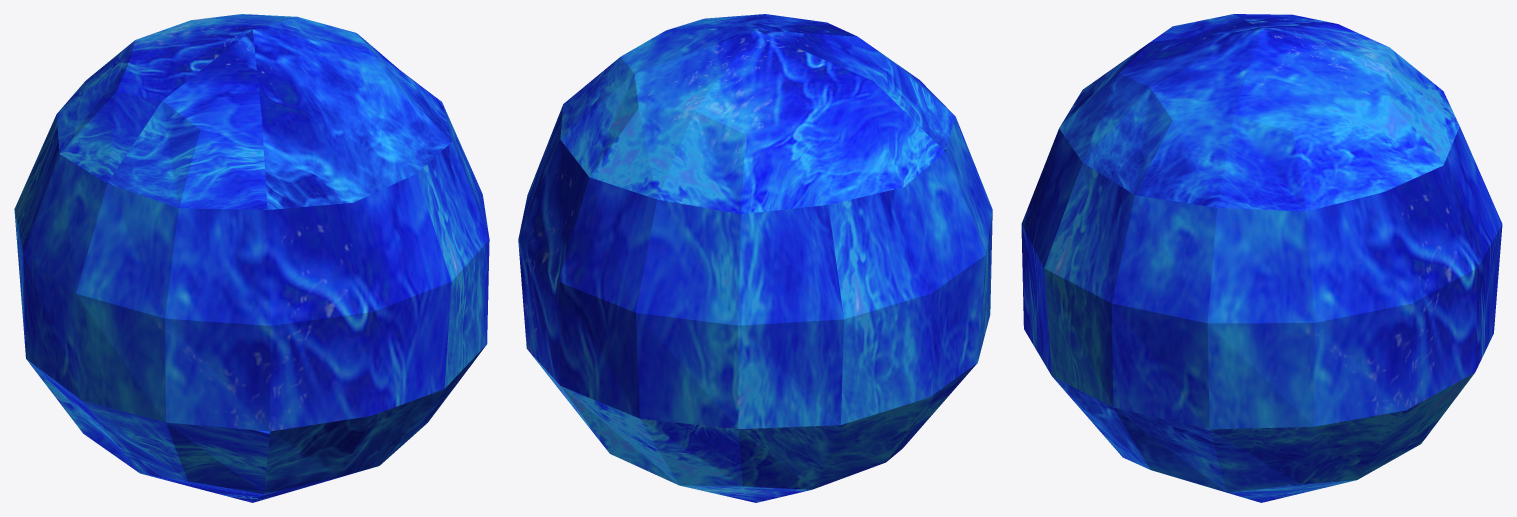
The model's file is Fireball.FBX.
3 renders of one model, left to right at view 1: azimuth 30°, elevation 25°; view 2: azimuth 150°, elevation 25°; view 3: azimuth 270°, elevation 25°, orthographic.
Parts seen in each view (by area): view 1: Sphere001; view 2: Sphere001; view 3: Sphere001.
Boxes of the visible parts, left/top/right/bottom form: Sphere001: left=14, top=14, right=489, bottom=502; Sphere001: left=518, top=14, right=992, bottom=502; Sphere001: left=1021, top=14, right=1502, bottom=502.
Bounding box in the file's own units: 0.4918 × 0.5469 × 0.5031.
Materials: 1 (1 with a texture image).
